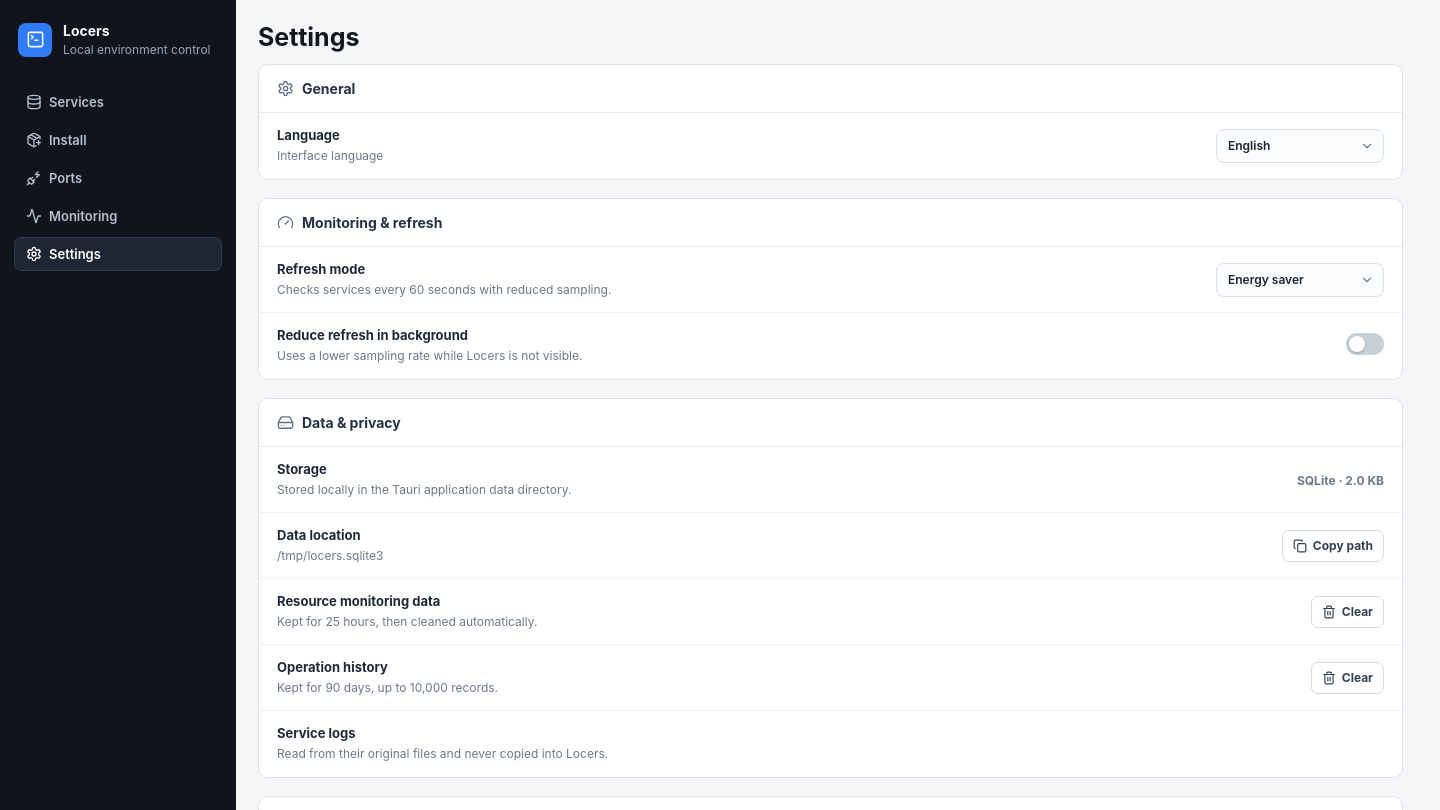
App › shows feedback after copying the database path
Click the button "Copy path" at (1333, 546), box [1282,530,1384,562]
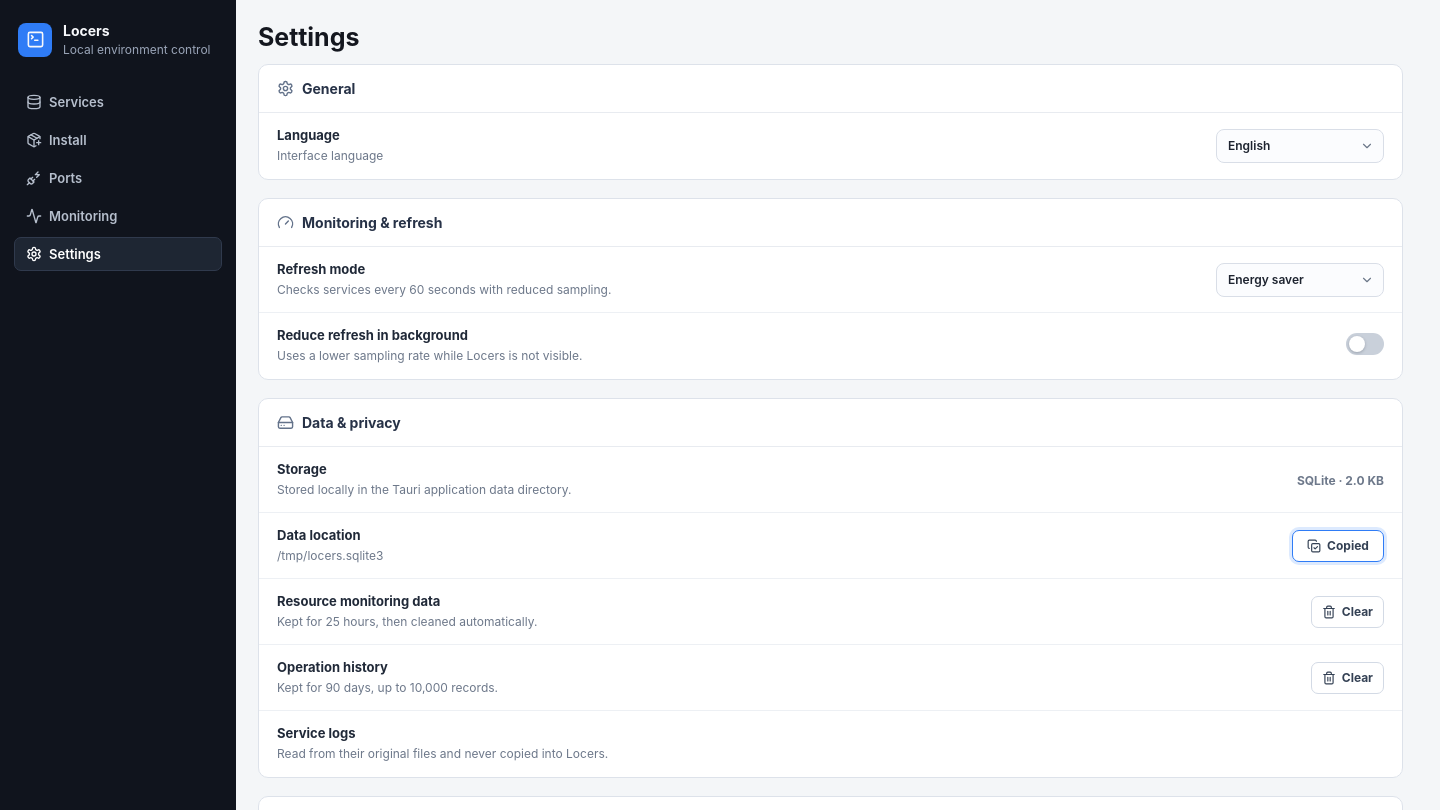
Expected: the button "Copied" is shown, [1292,530,1384,562]
